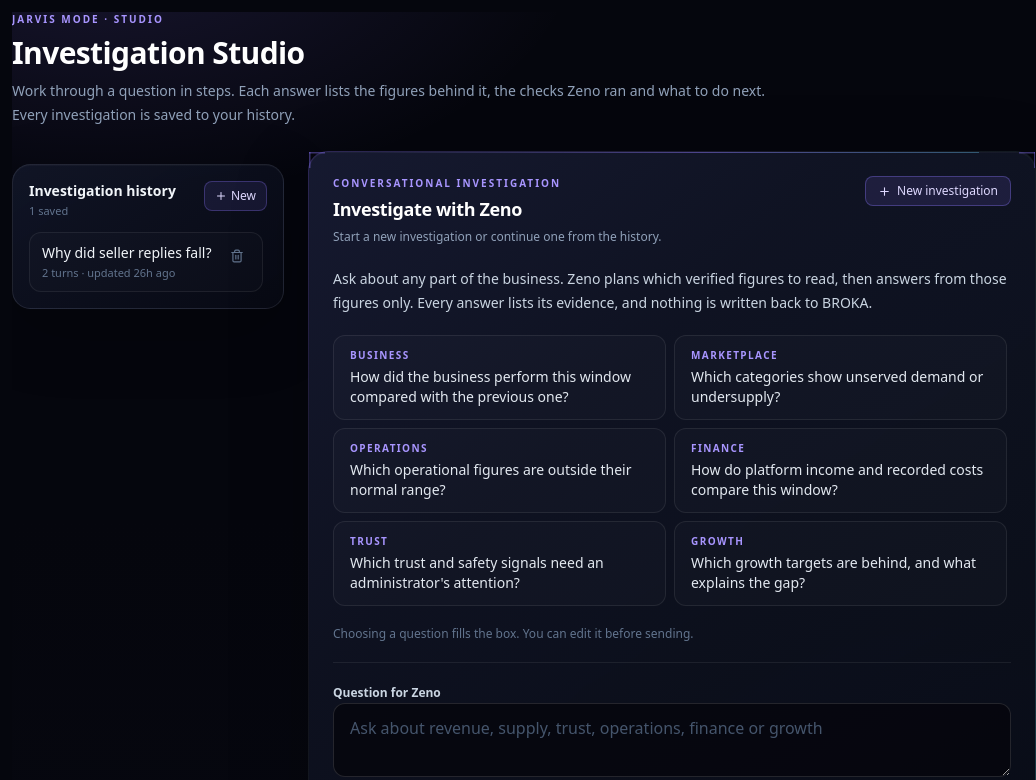
Test: investigation › starts a fresh investigation without deleting the earlier one
Click the button "Why did seller replies fall? 2 turns · updated 26h ago" at [129, 262], box left=42, top=242, right=216, bottom=281
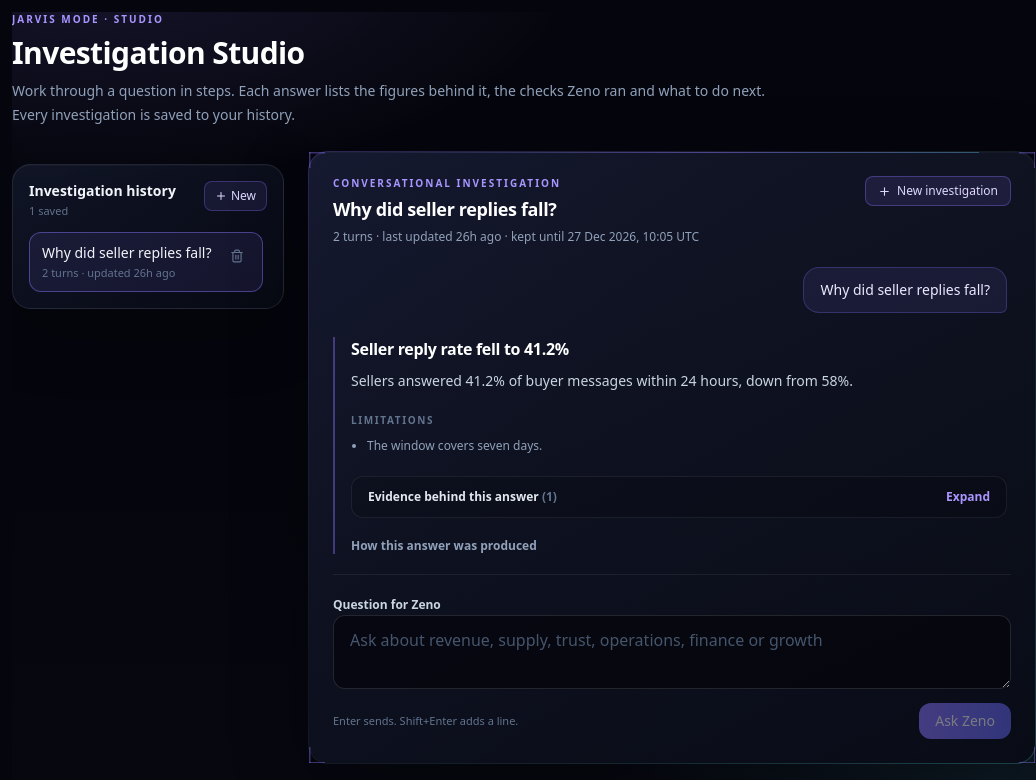
Now the text "Seller reply rate fell to 41.2%" is shown, box left=351, top=338, right=569, bottom=360
Click the button "New investigation" at [938, 191], box left=865, top=176, right=1011, bottom=206
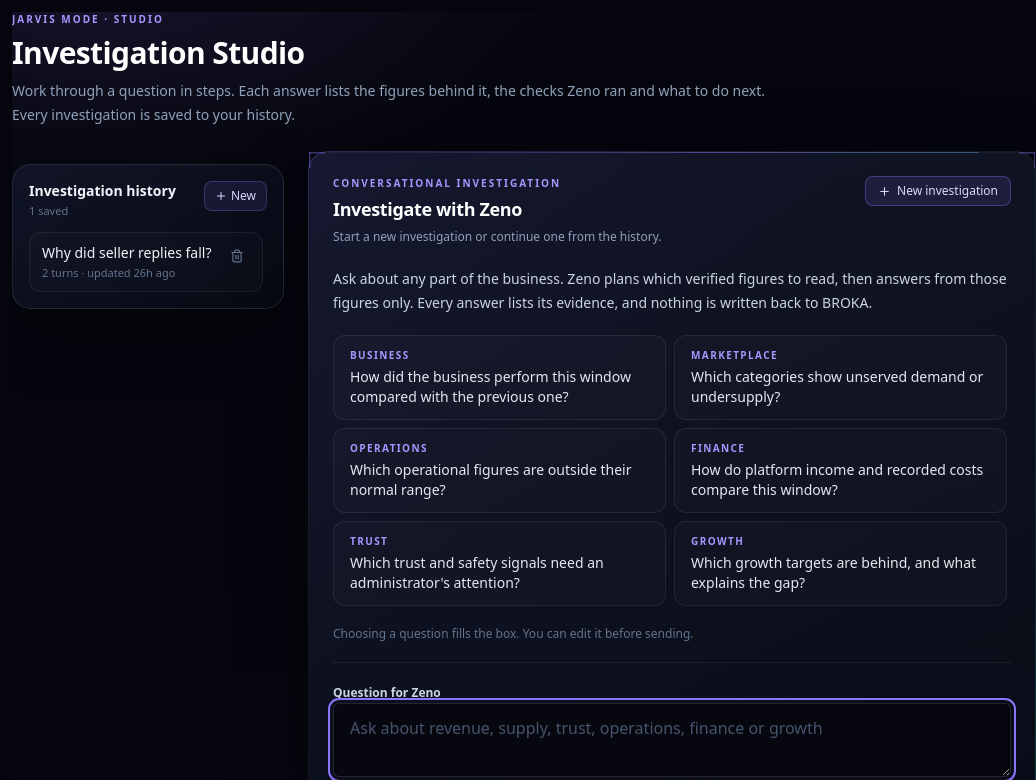
Now the text "Choosing a question fills the box. You can edit it before sending." is shown, box left=333, top=625, right=694, bottom=642
